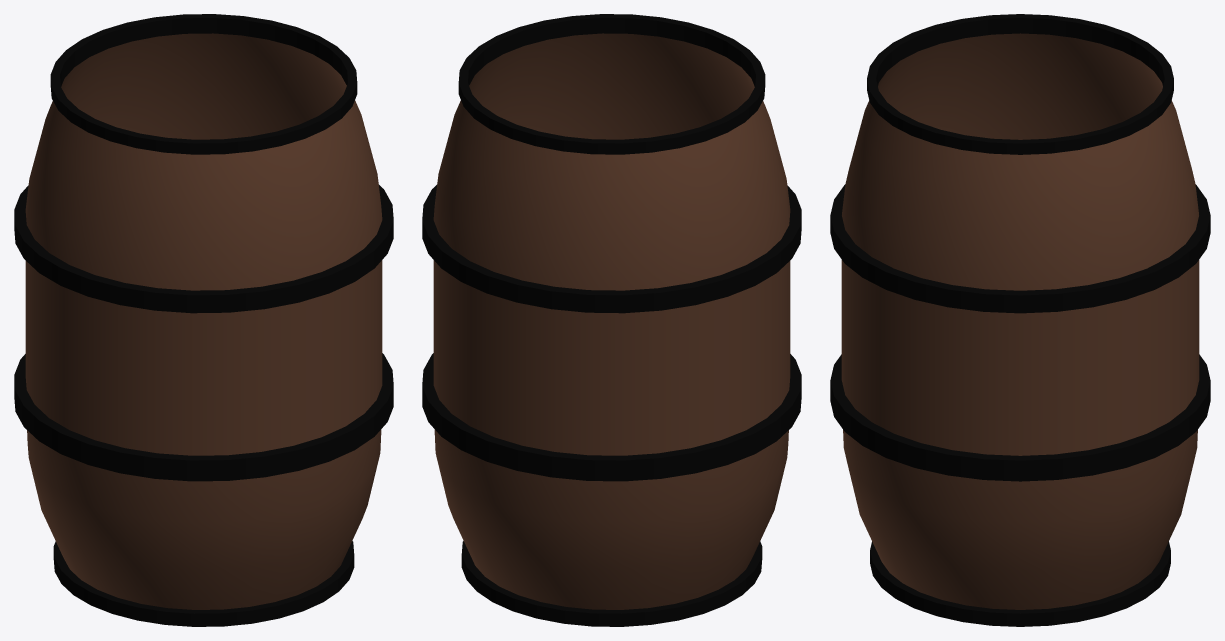
The model's file is barrel.fbx.
3 views of the same model, side by side, from view 1: azimuth 30°, elevation 25°; view 2: azimuth 150°, elevation 25°; view 3: azimuth 270°, elevation 25° (orthographic).
Parts seen in each view (by area): view 1: Cylinder; view 2: Cylinder; view 3: Cylinder.
Boxes of the visible parts, left/top/right/bottom form: Cylinder: left=14, top=14, right=393, bottom=626; Cylinder: left=422, top=14, right=801, bottom=626; Cylinder: left=830, top=14, right=1210, bottom=626.
Bounding box in the file's own units: 213 × 299 × 213.
